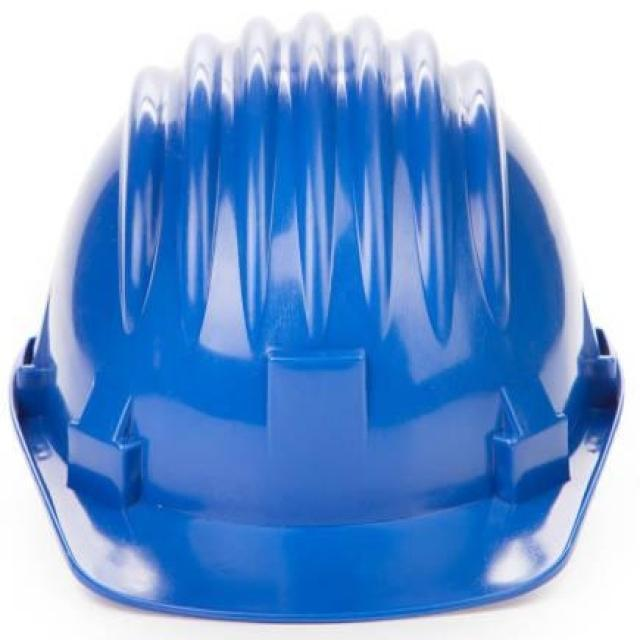helmet: (15, 20, 619, 619)
